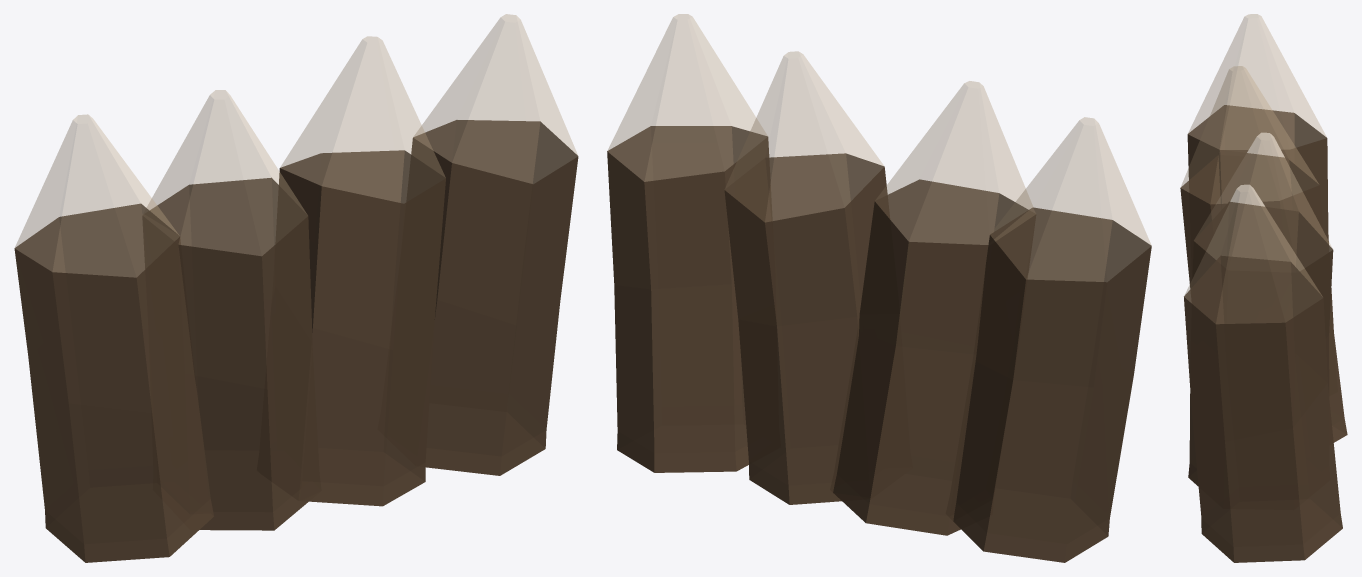
Rendered from wood spike.fbx.
3 renders of one model, left to right at view 1: azimuth 30°, elevation 25°; view 2: azimuth 150°, elevation 25°; view 3: azimuth 270°, elevation 25°, orthographic. The views are drawn at different scales.
Visible parts, largest first — view 1: Cylinder.004; view 2: Cylinder.004; view 3: Cylinder.004.
Boxes of the visible parts, x1=… form: Cylinder.004: x1=14, y1=14, x2=578, y2=562; Cylinder.004: x1=607, y1=14, x2=1151, y2=562; Cylinder.004: x1=1180, y1=14, x2=1347, y2=562.
Bounding box in the file's own units: 400 × 318 × 132.
